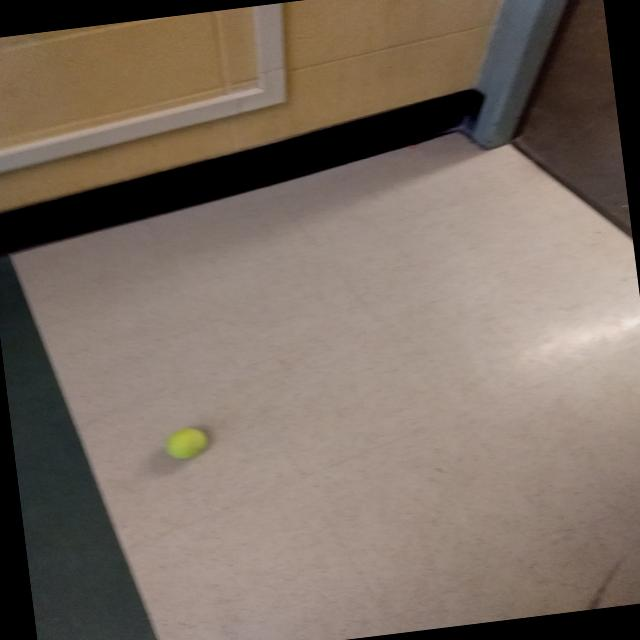Tennis Ball: (161, 425, 210, 462)
